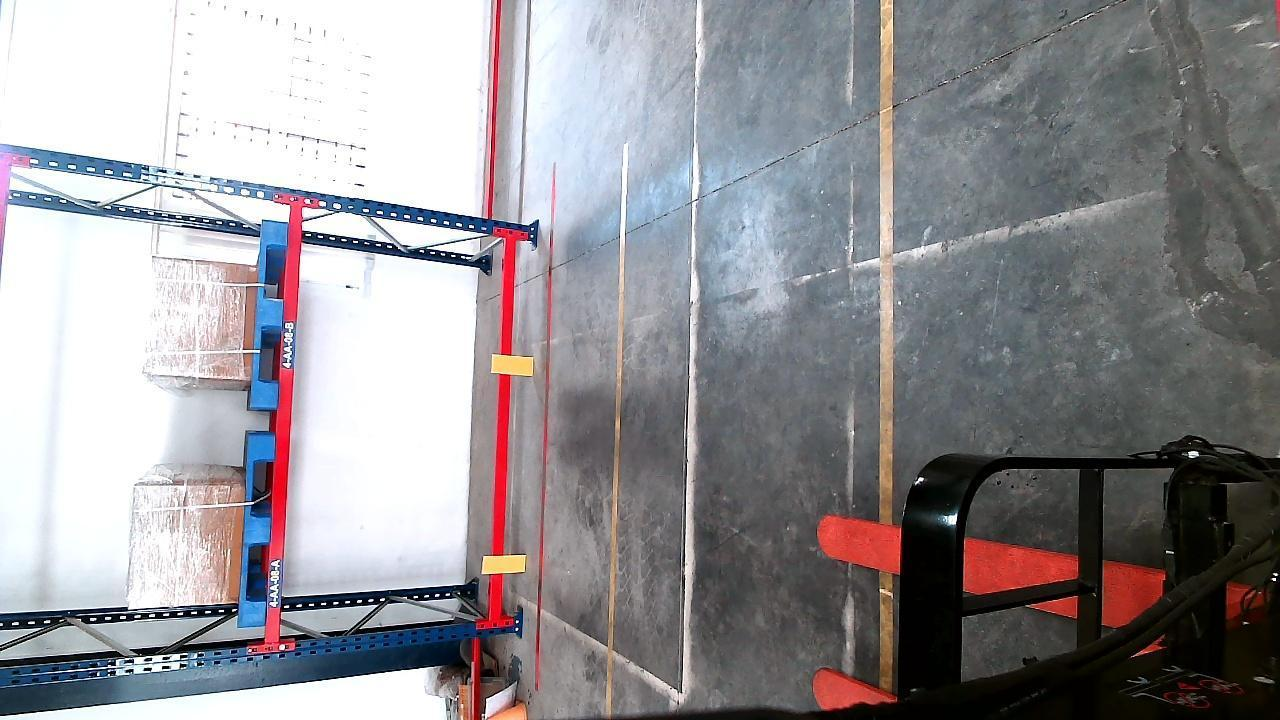h_rack: (262, 196, 305, 642), (491, 242, 515, 621)
orange_strip: (495, 352, 537, 377), (485, 554, 528, 575)
small_pallet: (254, 225, 288, 416), (240, 445, 276, 620)
yellow_line: (874, 12, 897, 693), (602, 173, 628, 719)
